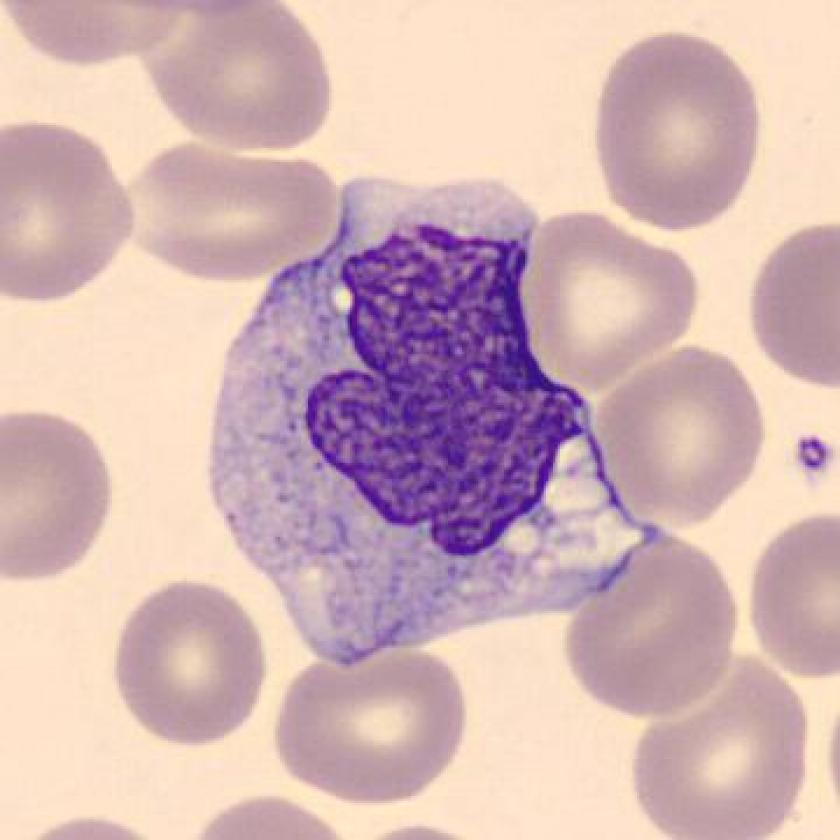monocyte: (183, 143, 692, 675)
